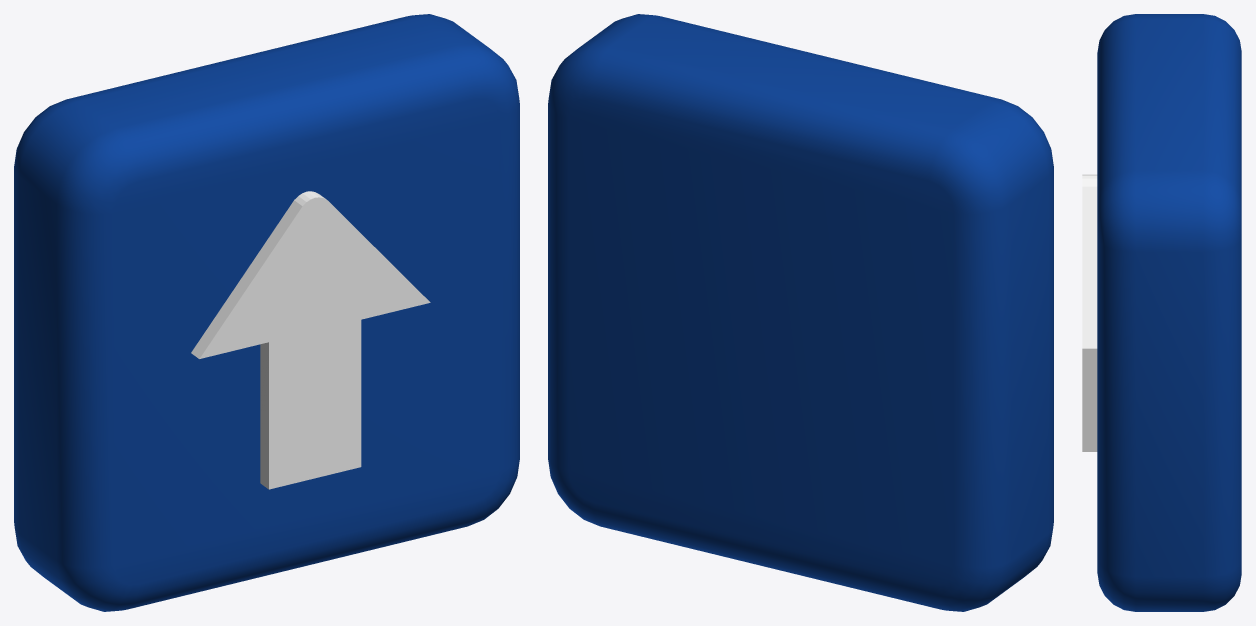
File: up_arrow.glb
3 views of the same model, side by side, from view 1: azimuth 30°, elevation 25°; view 2: azimuth 150°, elevation 25°; view 3: azimuth 270°, elevation 25° (orthographic). The views are drawn at different scales.
Parts seen in each view (by area): view 1: Cube.962; view 2: Cube.962; view 3: Cube.962.
Boxes of the visible parts, x1=… form: Cube.962: x1=14, y1=14, x2=519, y2=611; Cube.962: x1=548, y1=14, x2=1053, y2=611; Cube.962: x1=1082, y1=14, x2=1241, y2=611.
Size of the model in its own units: 2.2 by 2.2 by 0.73.
1 material, 1 textured.
